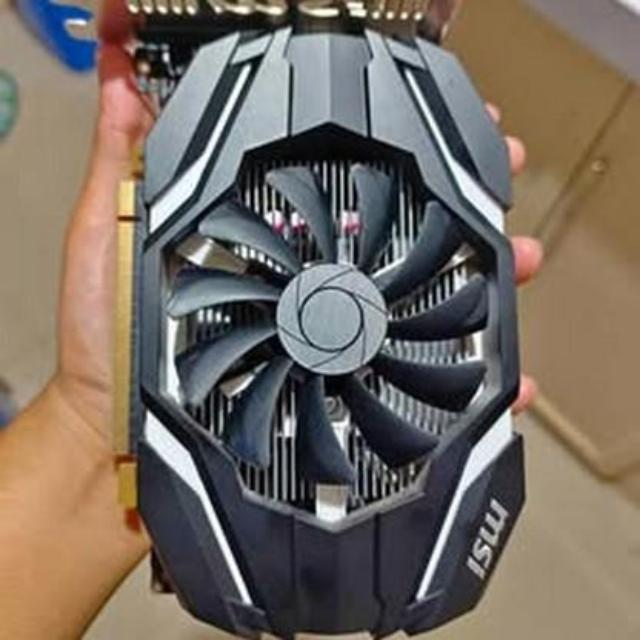GPU: (115, 0, 520, 640)
